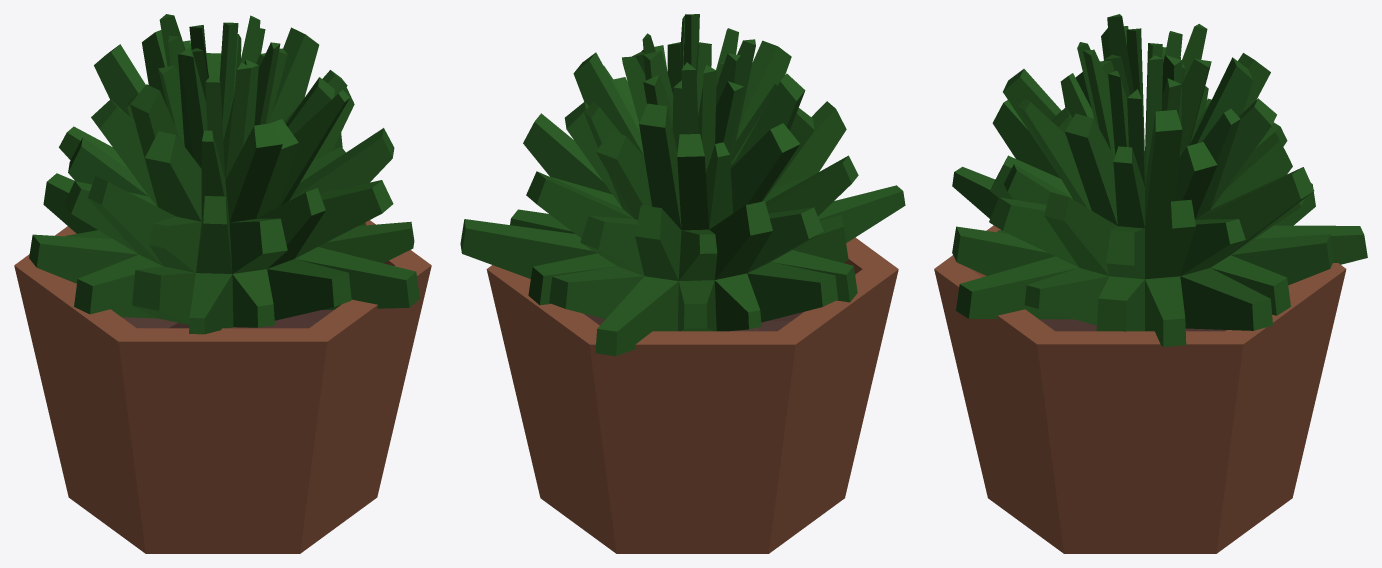
File: Plant 2.fbx
The picture shows the model from 3 angles, left to right: view 1: azimuth 30°, elevation 25°; view 2: azimuth 150°, elevation 25°; view 3: azimuth 270°, elevation 25°; orthographic projection.
Visible parts, largest first — view 1: Plant 2; view 2: Plant 2; view 3: Plant 2.
Part boxes in pixels (<box>): Plant 2: <box>14,14,431,553</box>; Plant 2: <box>460,14,905,553</box>; Plant 2: <box>934,14,1367,553</box>.
Size of the model in its own units: 132 by 146 by 171.
